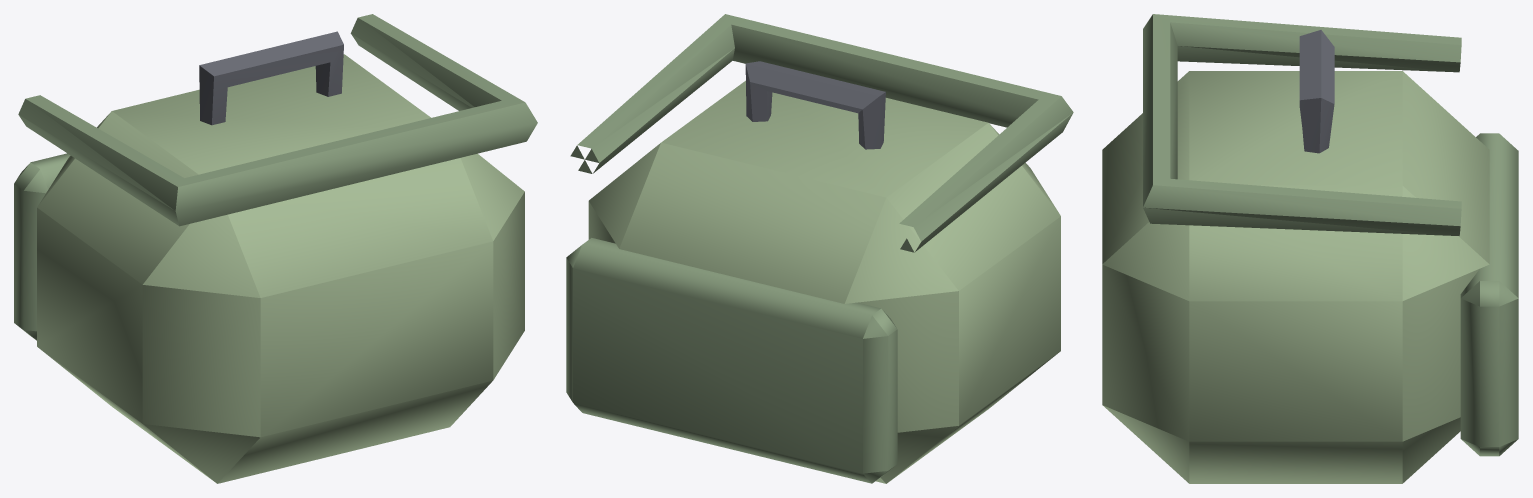
Rendered from mower_bag.gltf.
3 views of the same model, side by side, from view 1: azimuth 30°, elevation 25°; view 2: azimuth 150°, elevation 25°; view 3: azimuth 270°, elevation 25° (orthographic). The views are drawn at different scales.
Parts seen in each view (by area): view 1: mower_bag; view 2: mower_bag; view 3: mower_bag.
Boxes of the visible parts, bbox=[...] form: mower_bag: bbox=[14, 14, 537, 483]; mower_bag: bbox=[566, 14, 1073, 483]; mower_bag: bbox=[1102, 14, 1518, 483].
Bounding box in the file's own units: 0.46 × 0.4133 × 0.43.
